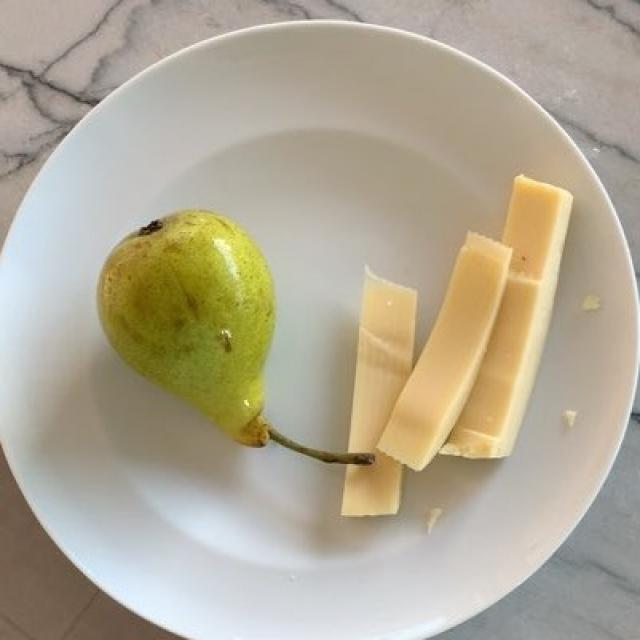cheese: (340, 176, 583, 521)
pear: (100, 210, 274, 441)
